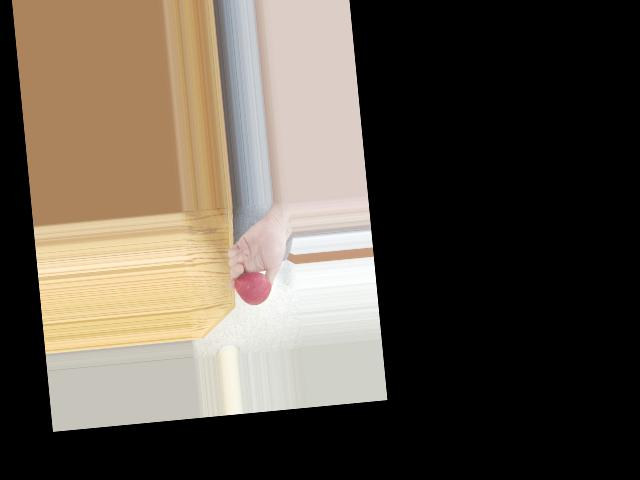apple: (233, 265, 275, 308)
